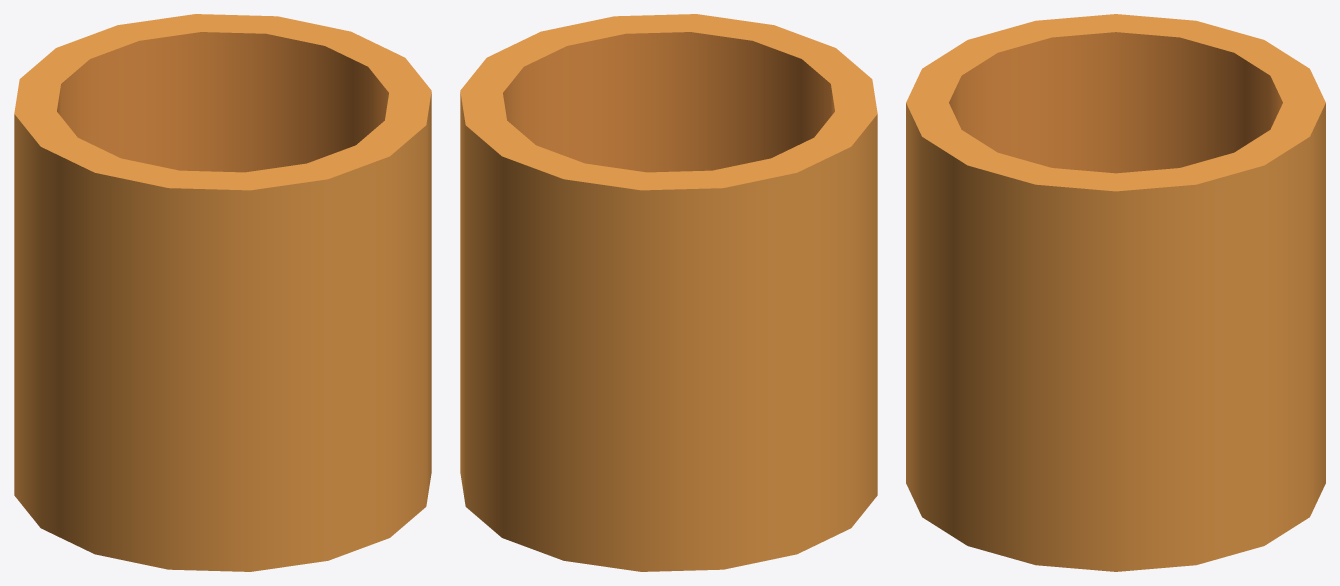
The model's file is pipe_straight_A_yellow.glb.
3 views of the same model, side by side, from view 1: azimuth 30°, elevation 25°; view 2: azimuth 150°, elevation 25°; view 3: azimuth 270°, elevation 25° (orthographic).
Parts seen in each view (by area): view 1: pipe_straight_A_yellow; view 2: pipe_straight_A_yellow; view 3: pipe_straight_A_yellow.
Boxes of the visible parts, x1,y1,x2,y2 form: pipe_straight_A_yellow: [14, 14, 431, 571]; pipe_straight_A_yellow: [460, 14, 877, 571]; pipe_straight_A_yellow: [906, 14, 1325, 571].
Size of the model in its own units: 2 by 2 by 2.
Materials: 1 (1 with a texture image).
